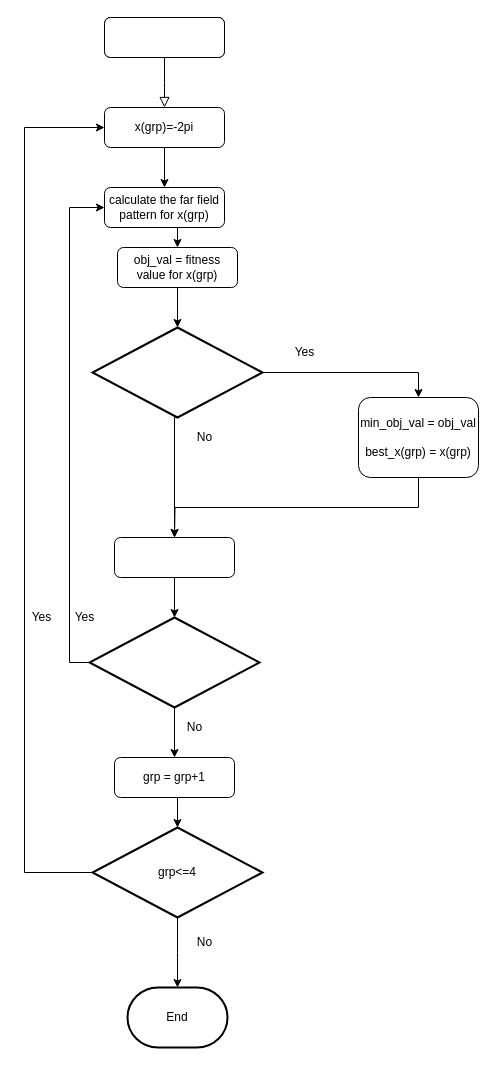
Image size: 496x1066. Some labels were removed from this diagram. Here are the shapes that lost their labels. From the top down, the centre of each, then its label:
At point 164,37: "grp = 1".
At point 177,372: "if obj_val<min_obj_val".
At point 174,557: "x(grp) = x(grp) + step".
At point 174,662: "x(grp)<2pi".
